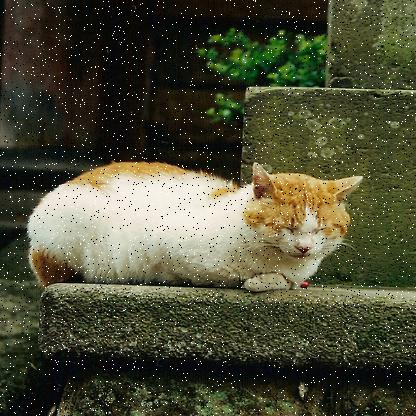cat: (15, 155, 373, 303)
